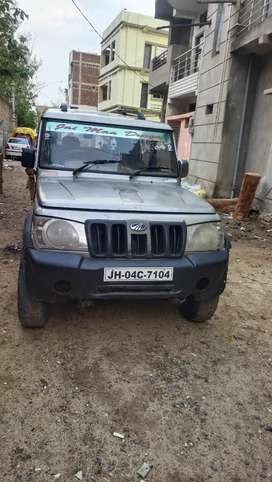JH04C7104: (102, 267, 173, 281)
